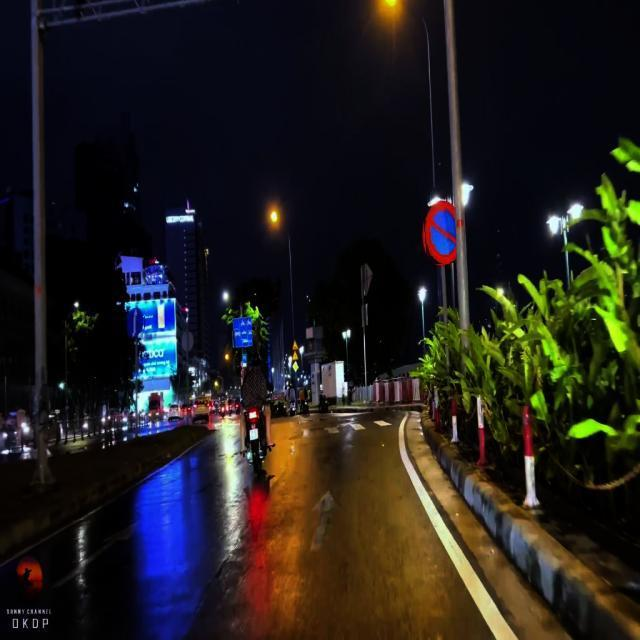131a-cam-do-xe: (424, 200, 466, 264)
407a-duong-mot-chieu: (128, 308, 146, 339)
